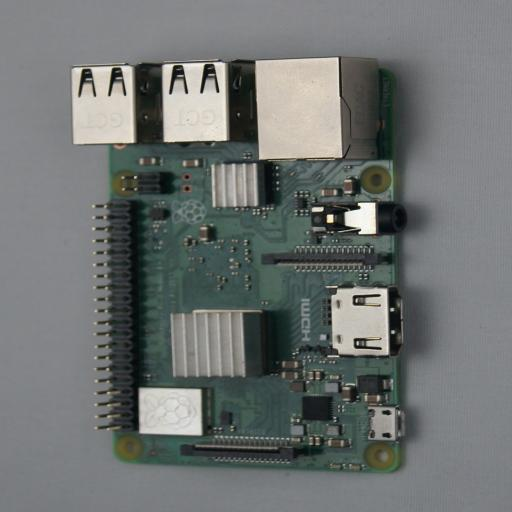Raspberry Pi 3 B-: (72, 56, 434, 474)
